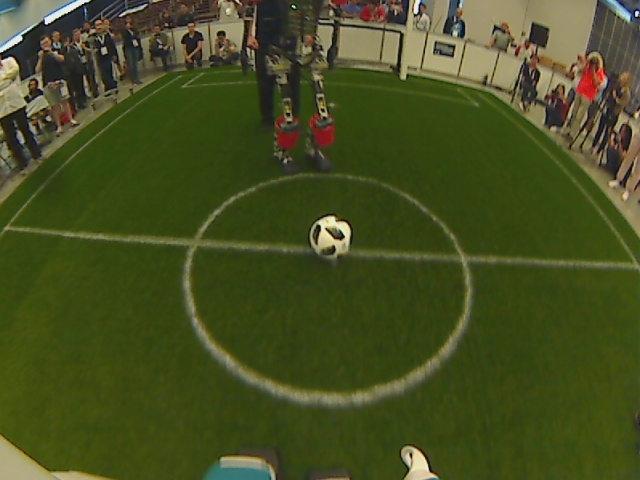ball: (306, 214, 356, 262)
